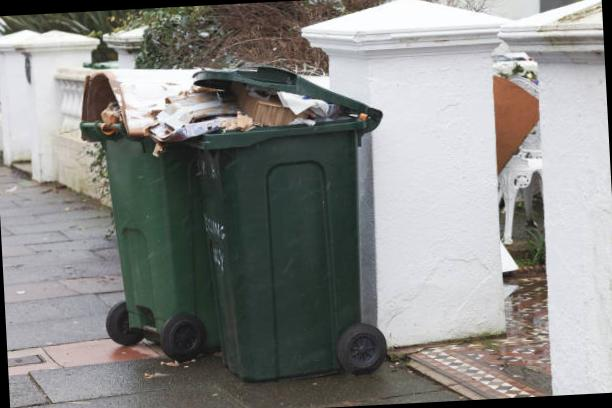trash: (159, 60, 330, 144), (81, 50, 210, 134)
trash_can_overflow: (184, 35, 386, 390), (57, 44, 225, 373)
